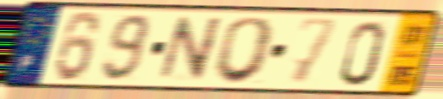0: (338, 18, 390, 88)
6: (51, 9, 102, 85)
7: (290, 15, 339, 88)
9: (99, 12, 153, 84)
N: (154, 15, 227, 83)
O: (211, 15, 279, 86)
